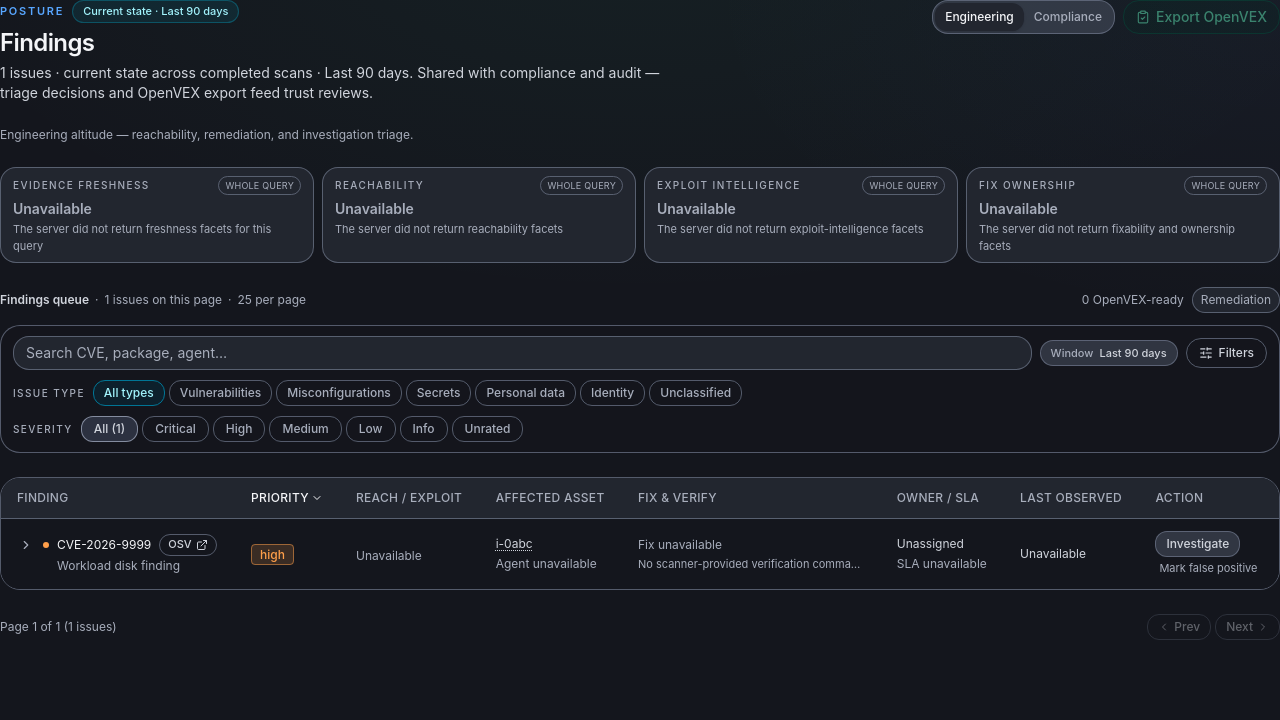
Test: FindingsPage › shows workload runtime evidence on the Evidence tab without conflating proxy runtime
Expected: the button "CVE-2026-9999" is shown, [57, 537, 151, 553]
Click the button named "Open details for CVE-2026-9999" at (26, 545), box [17, 536, 35, 554]
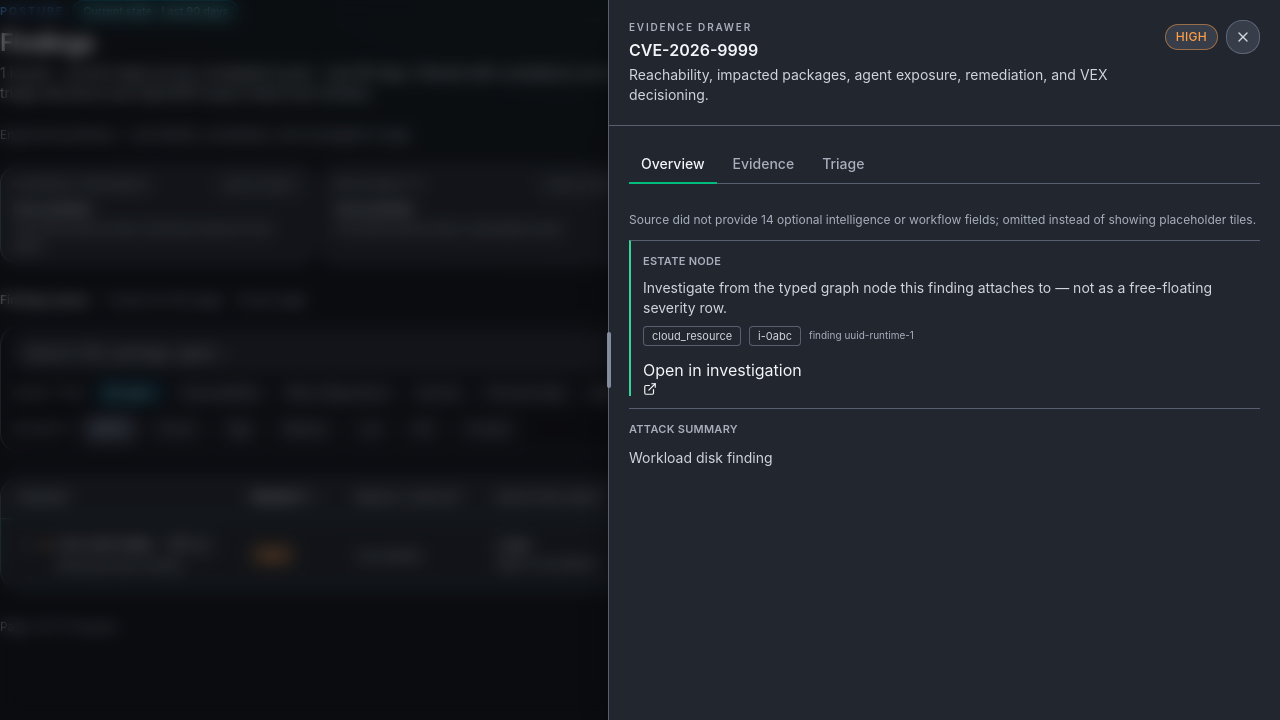
Click the tab "Evidence" at (763, 165), box [720, 146, 806, 184]
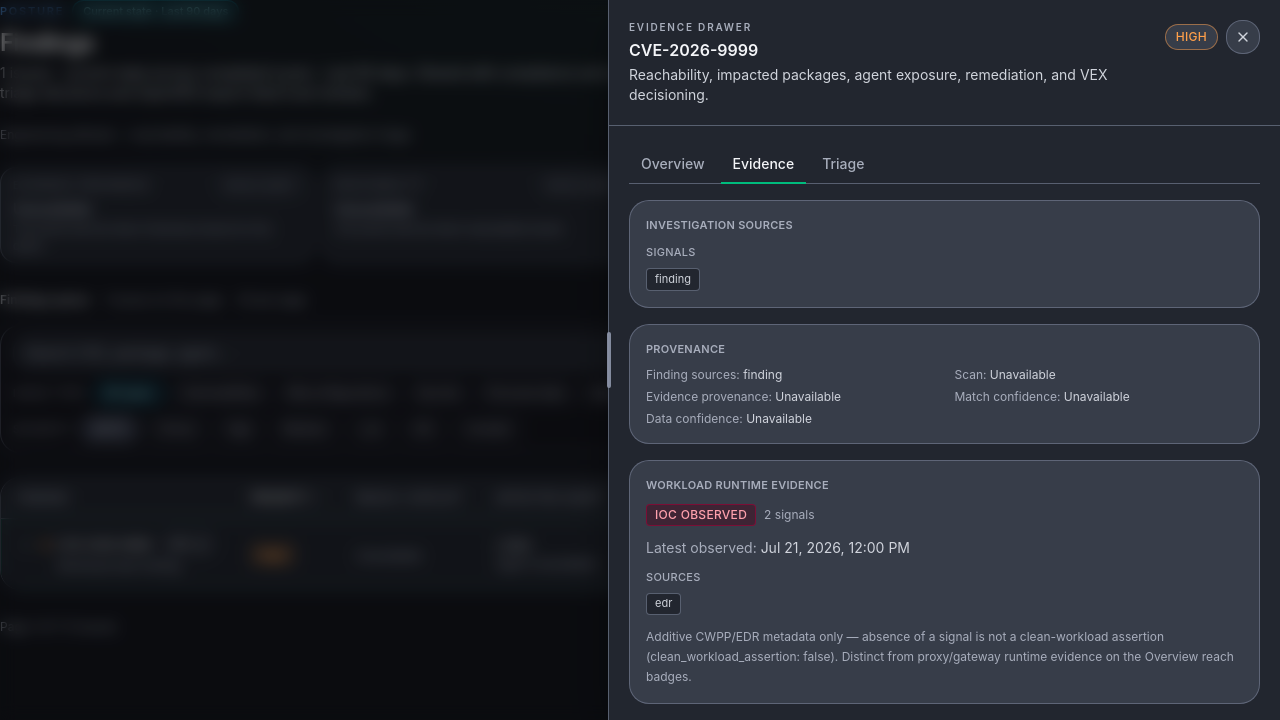
Expected: the heading "Workload runtime evidence" is shown, [646, 478, 829, 492]
Expected: the text "IOC observed" is shown, [646, 504, 756, 526]
Expected: the text "not a clean-workload assertion" is shown, [646, 629, 1164, 644]
